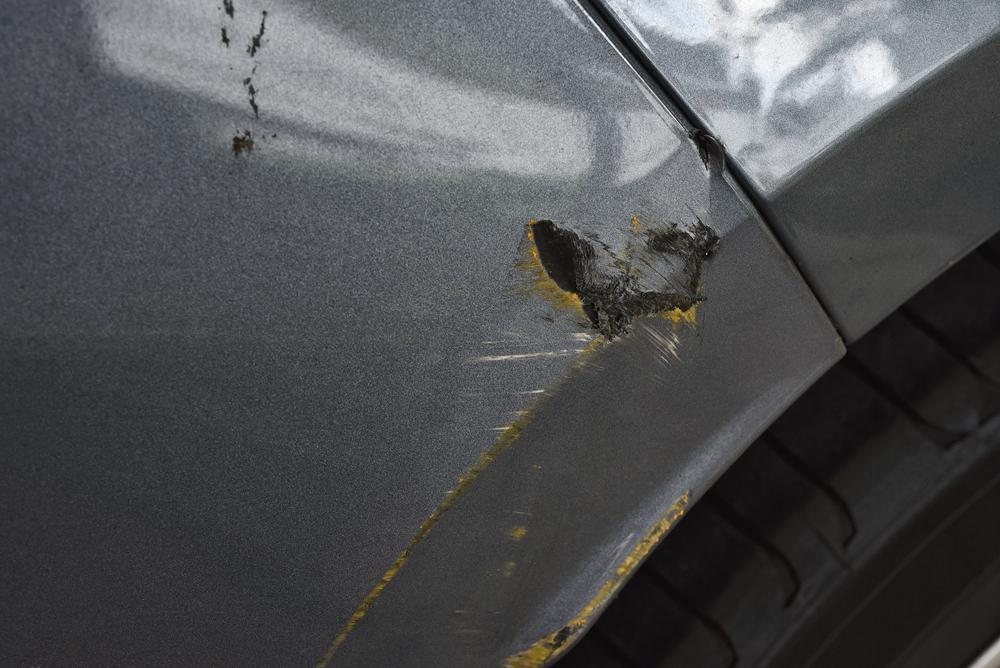scratch: (310, 193, 725, 668)
